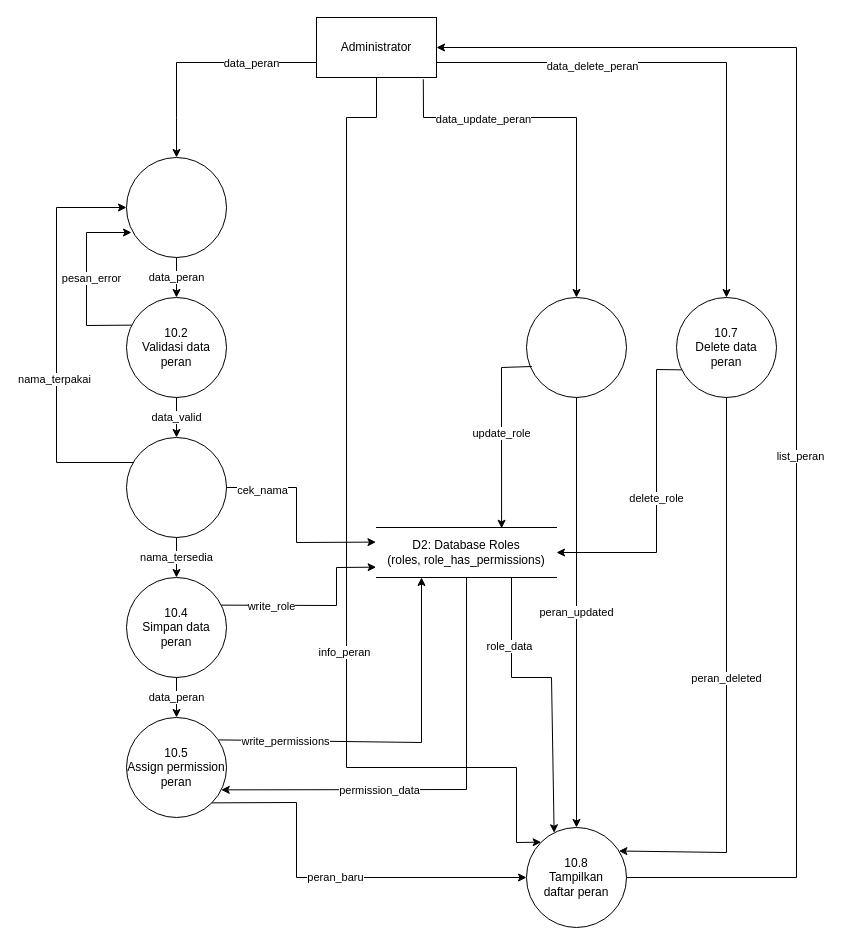
Some shapes in this 841 by 945 pixel diagram are drawn without their labels. The shapes that lost their labels are listed below. From the top down, each one's centre as x and y in pixels, then its label:
At point (176, 207): "10.1 Input data peran".
At point (576, 347): "10.6 Update data peran".
At point (176, 487): "10.3 Cek duplikasi peran".
